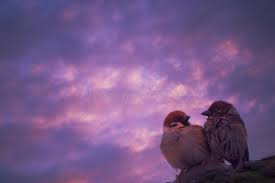home_sparrow: (193, 95, 268, 170), (143, 103, 218, 175)
